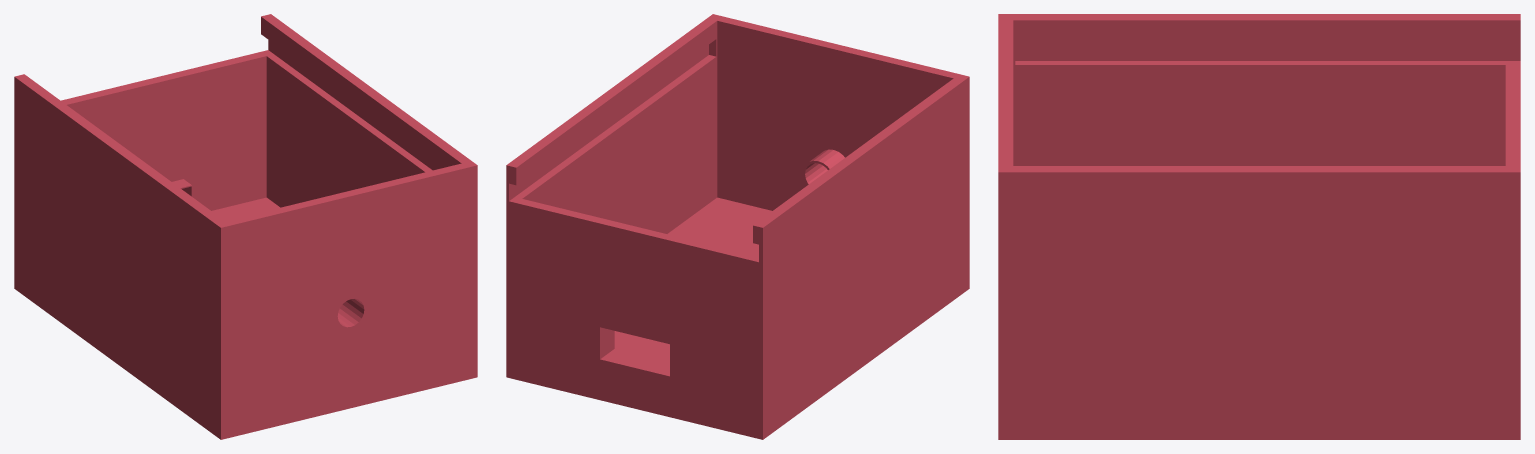
The model's file is Box ohne Deckel.glb.
3 views of the same model, side by side, from view 1: azimuth 30°, elevation 25°; view 2: azimuth 150°, elevation 25°; view 3: azimuth 270°, elevation 25° (orthographic). The views are drawn at different scales.
Parts seen in each view (by area): view 1: Mesh_Mesh_head_geo.001_lambert2SG.001; view 2: Mesh_Mesh_head_geo.001_lambert2SG.001; view 3: Mesh_Mesh_head_geo.001_lambert2SG.001.
Boxes of the visible parts, x1,y1,x2,y2 form: Mesh_Mesh_head_geo.001_lambert2SG.001: (14, 14, 477, 439); Mesh_Mesh_head_geo.001_lambert2SG.001: (506, 14, 969, 439); Mesh_Mesh_head_geo.001_lambert2SG.001: (998, 14, 1520, 439).
Bounding box in the file's own units: 96.52 × 76.2 × 135.
